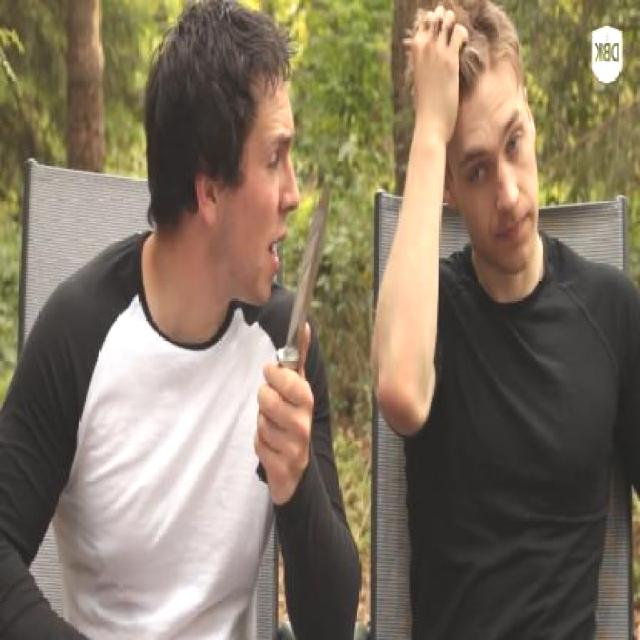knife: (248, 160, 343, 483)
